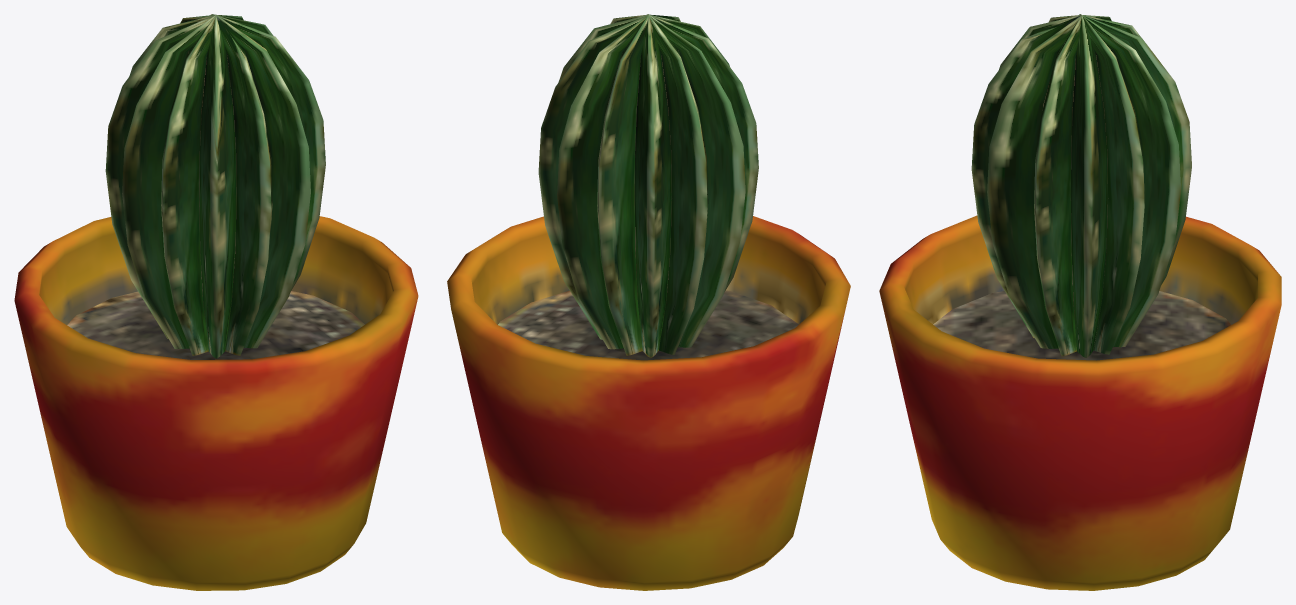
The model's file is Cactus.fbx.
3 renders of one model, left to right at view 1: azimuth 30°, elevation 25°; view 2: azimuth 150°, elevation 25°; view 3: azimuth 270°, elevation 25°, orthographic.
Visible parts, largest first — view 1: Pot, Cactus; view 2: Pot, Cactus; view 3: Pot, Cactus.
Part boxes in pixels (bbox=[...]): Pot: bbox=[14, 216, 418, 590]; Cactus: bbox=[105, 14, 325, 358]; Pot: bbox=[447, 216, 850, 590]; Cactus: bbox=[538, 14, 758, 357]; Pot: bbox=[879, 215, 1281, 590]; Cactus: bbox=[971, 14, 1191, 357].
Size of the model in its own units: 0.1991 by 0.2849 by 0.1988.
